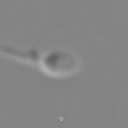abnormal: (1, 41, 40, 73)
